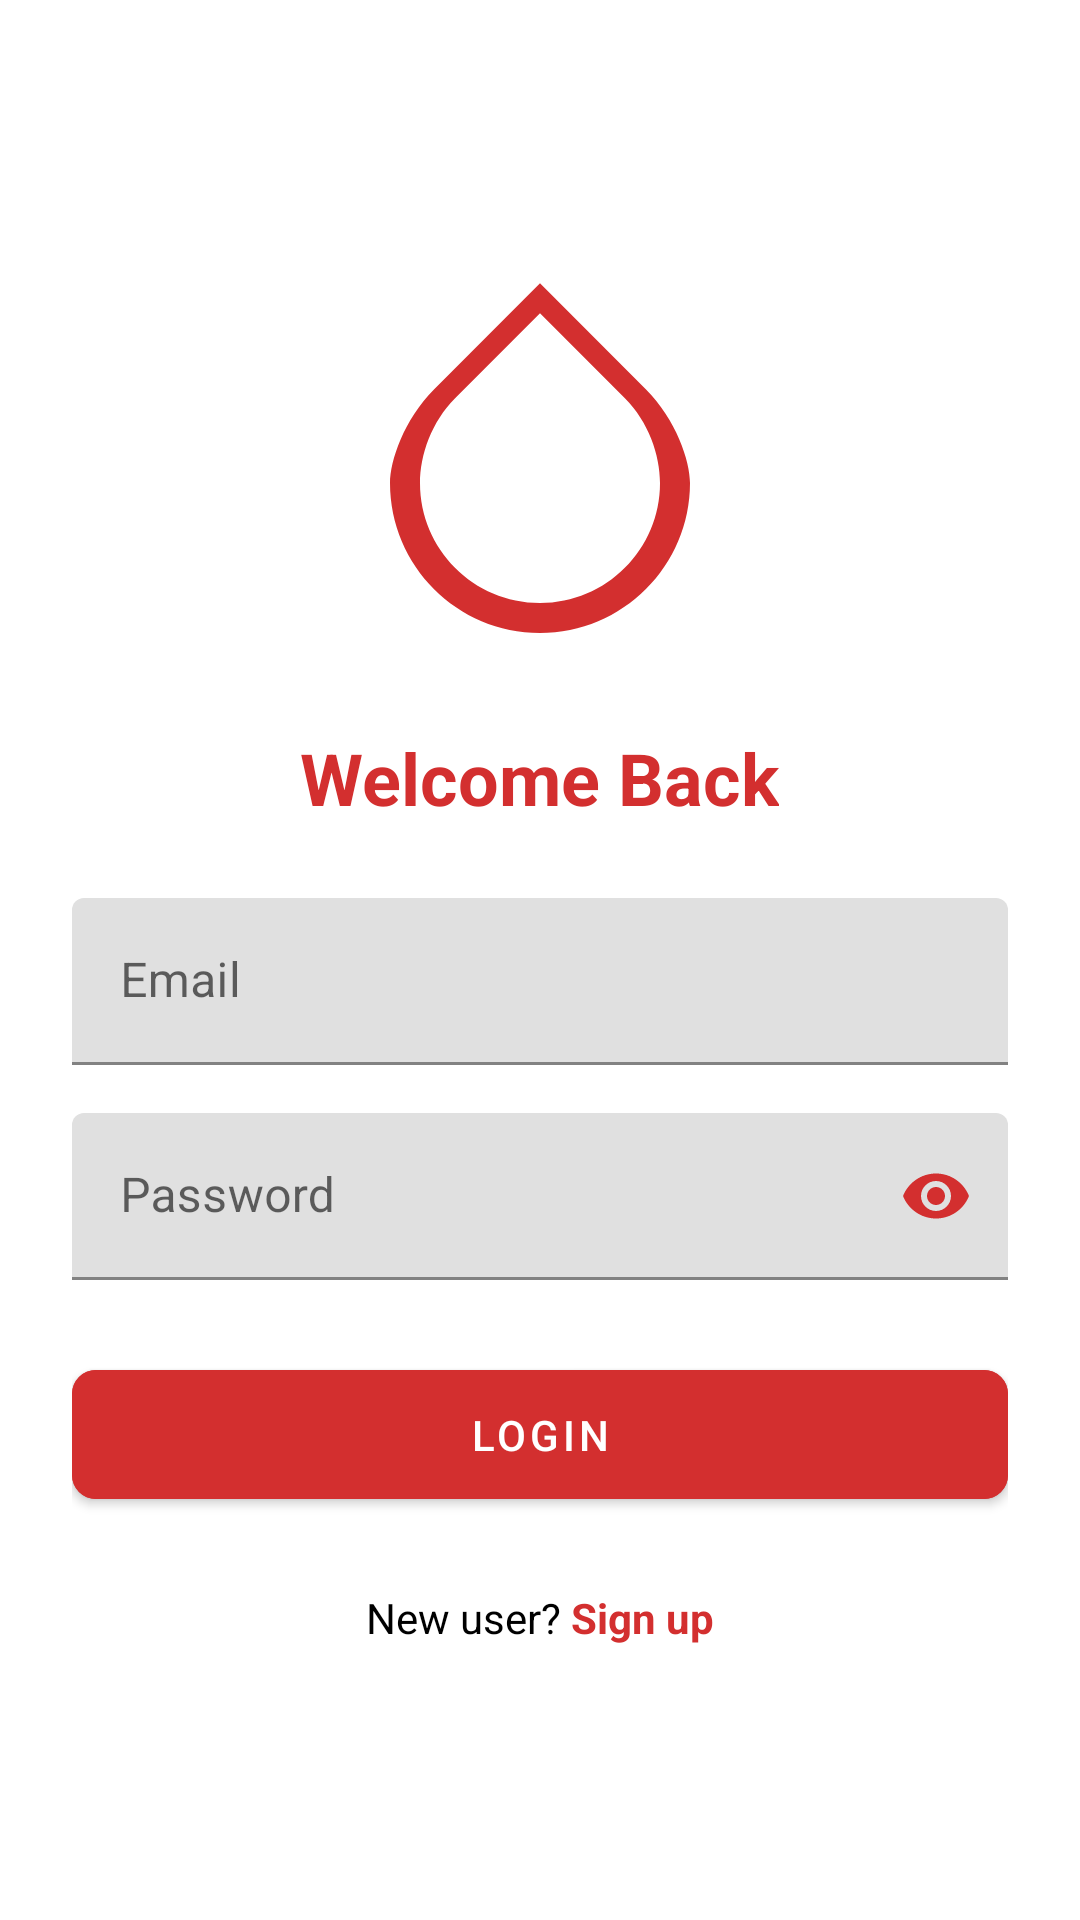

Icon click points for this 1080*1920 phone screenshot, format (x,y):
blood drop: (540,458)
